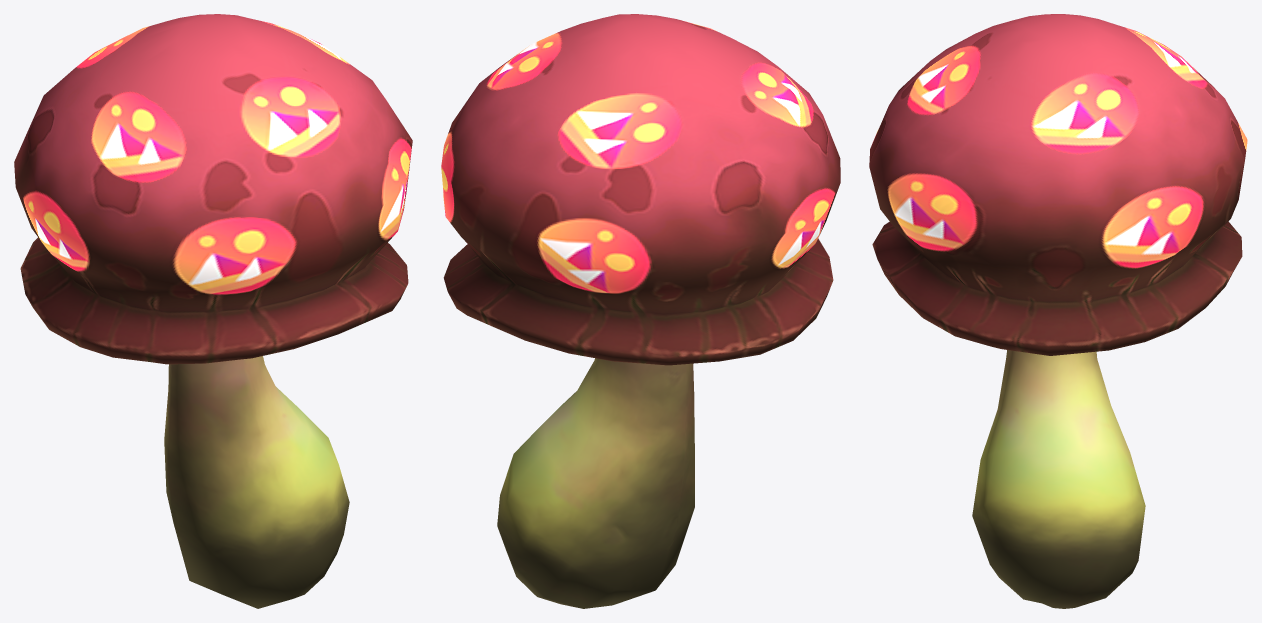
File: mana_mushroom.glb
3 views of the same model, side by side, from view 1: azimuth 30°, elevation 25°; view 2: azimuth 150°, elevation 25°; view 3: azimuth 270°, elevation 25° (orthographic). The views are drawn at different scales.
Parts seen in each view (by area): view 1: ManaMushroom; view 2: ManaMushroom; view 3: ManaMushroom.
Boxes of the visible parts, x1,y1,x2,y2 form: ManaMushroom: [14, 14, 412, 608]; ManaMushroom: [441, 14, 840, 608]; ManaMushroom: [869, 14, 1247, 608].
Size of what is drawn, in the model's own units: 12.34 by 19.77 by 12.35.
Materials: 1 (1 with a texture image).
